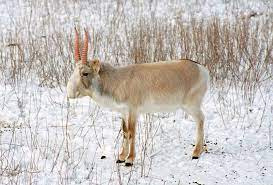saiga: (65, 26, 211, 168)
